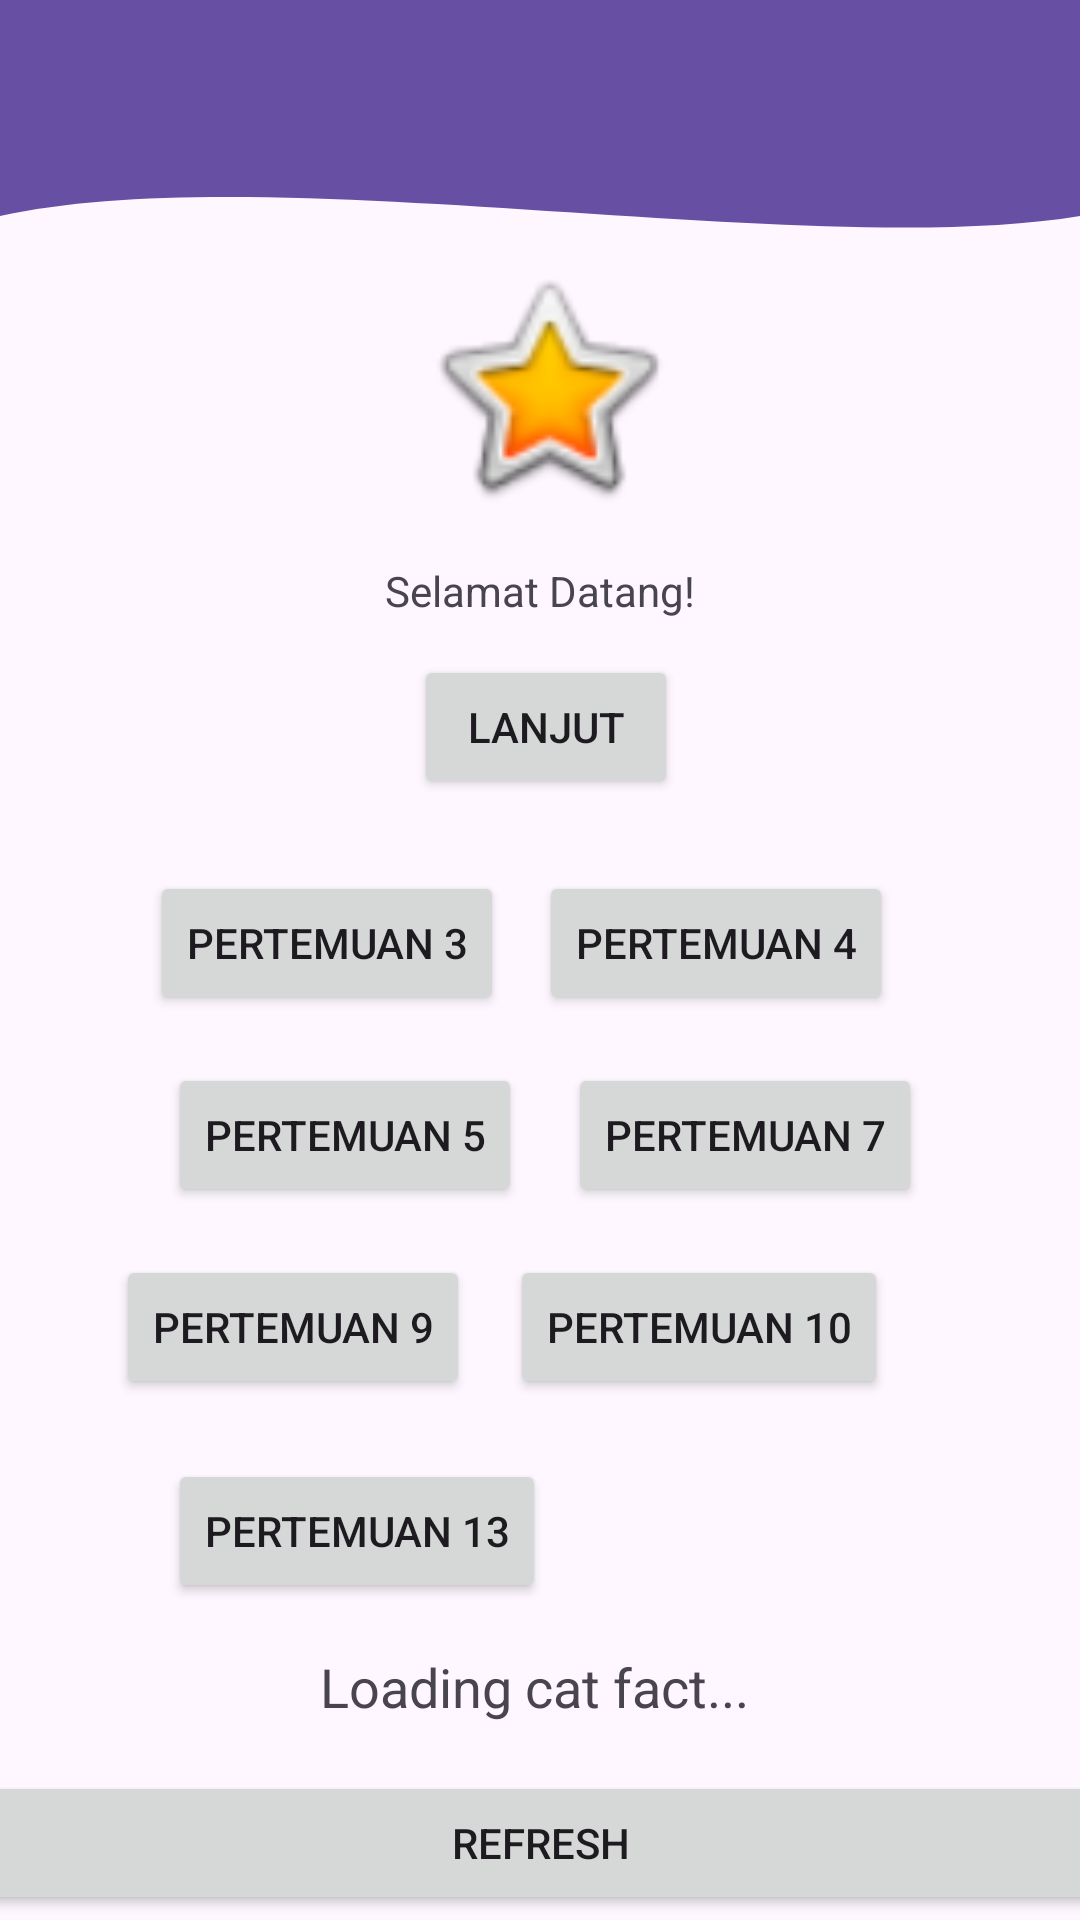

Point at icon controls on the screen. Image size 1080w x 1920h, points as [x,y].
star on: [550,389]
